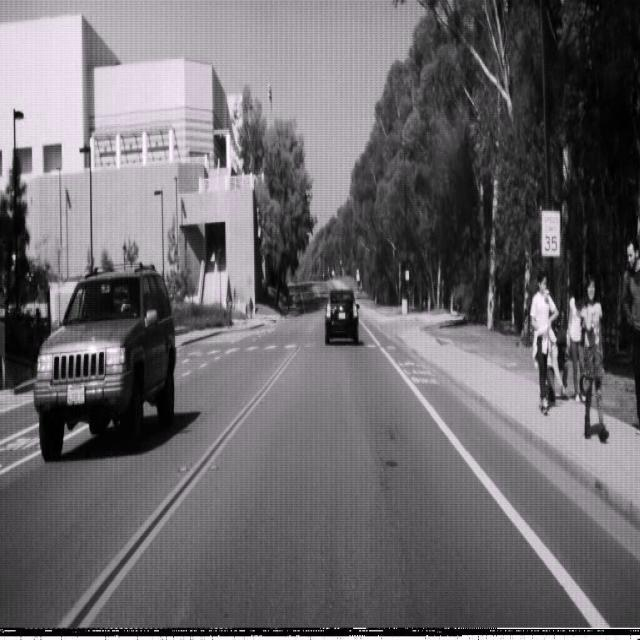speedLimit35: (540, 208, 561, 258)
